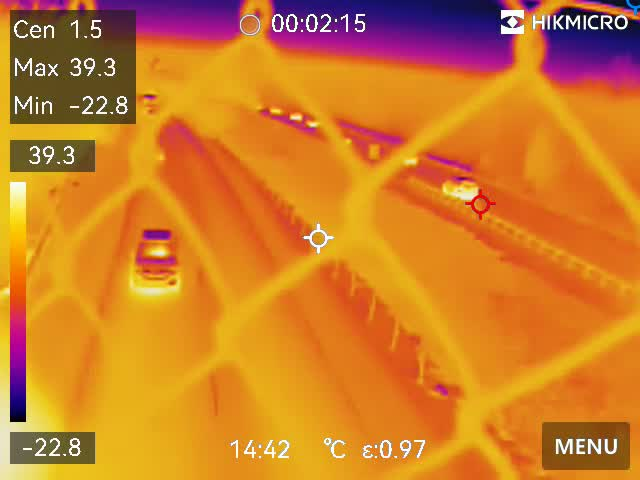vehicle: (125, 223, 182, 305), (443, 174, 481, 204), (266, 101, 285, 119), (306, 116, 326, 132), (290, 111, 303, 124)
